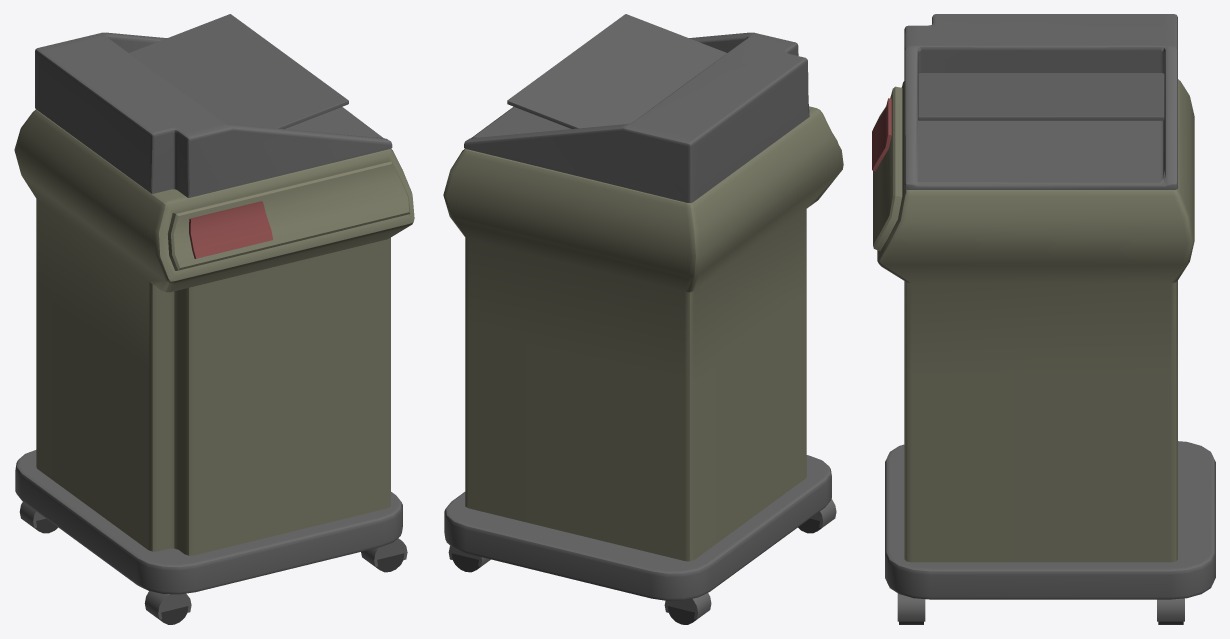
File: SM_Printer.fbx
3 renders of one model, left to right at view 1: azimuth 30°, elevation 25°; view 2: azimuth 150°, elevation 25°; view 3: azimuth 270°, elevation 25°, orthographic. The views are drawn at different scales.
Visible parts, largest first — view 1: Printer_mesh; view 2: Printer_mesh; view 3: Printer_mesh.
Part boxes in pixels (x1=…): Printer_mesh: x1=14, y1=14, x2=414, y2=624; Printer_mesh: x1=443, y1=14, x2=843, y2=624; Printer_mesh: x1=872, y1=14, x2=1215, y2=624.
Bounding box in the file's own units: 68.5 × 121 × 75.34.
